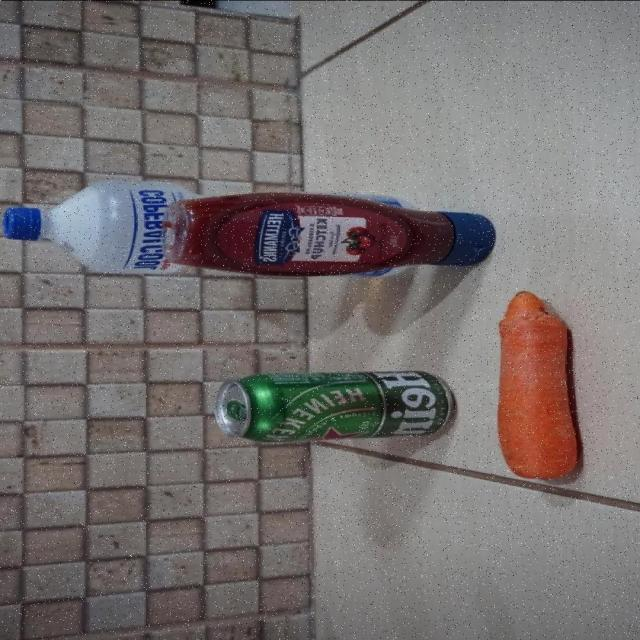AlcoholBottle: (4, 180, 173, 271)
BeerCan: (216, 372, 450, 442)
Carrot: (497, 292, 576, 480)
Ketchup: (161, 191, 494, 278)
